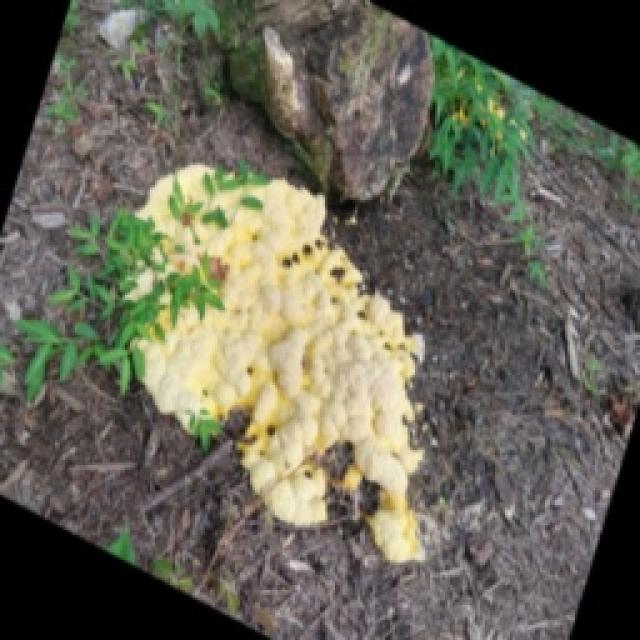Dog_vomit_slime_mold: (94, 153, 442, 585)
